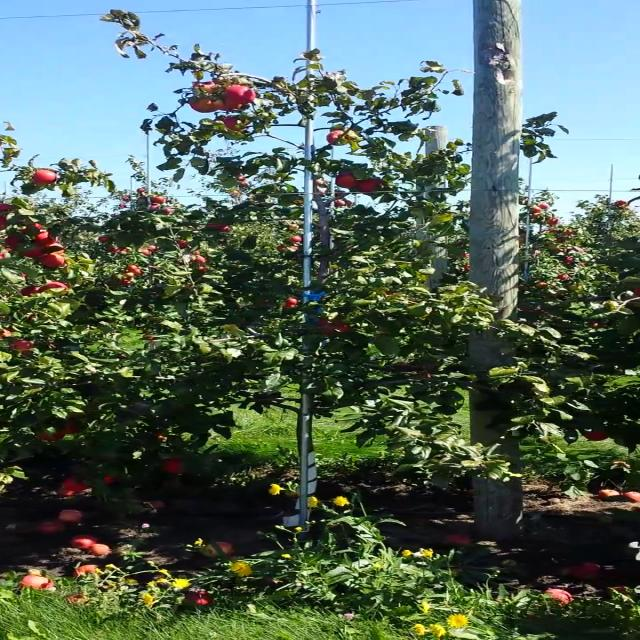apple: (226, 86, 255, 104), (319, 320, 350, 334), (358, 179, 389, 193), (188, 99, 218, 113), (336, 172, 357, 188), (63, 479, 88, 492), (36, 232, 58, 246), (40, 282, 69, 292), (213, 100, 242, 110), (43, 254, 63, 268), (17, 223, 41, 234), (5, 235, 25, 248), (34, 171, 55, 183), (63, 422, 83, 434), (327, 129, 344, 143), (196, 82, 217, 93), (45, 242, 64, 254), (583, 431, 607, 440), (12, 341, 32, 351), (23, 247, 43, 257), (169, 459, 182, 473), (222, 118, 236, 130), (21, 286, 39, 295), (42, 432, 61, 440), (1, 328, 11, 338), (0, 203, 12, 211), (1, 216, 9, 228), (104, 475, 114, 483), (287, 298, 297, 304), (284, 304, 294, 309)
